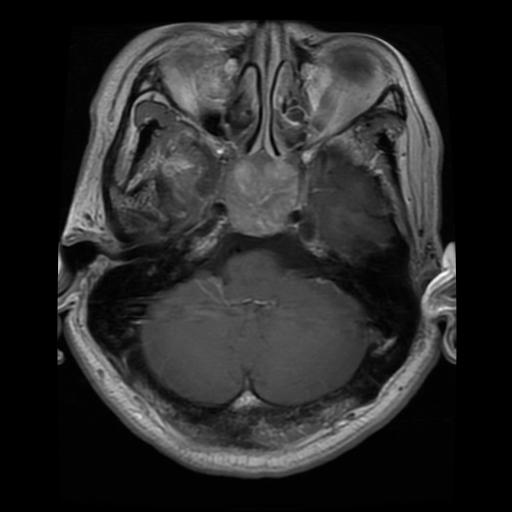Pituirity_tumour: (223, 159, 297, 234)
